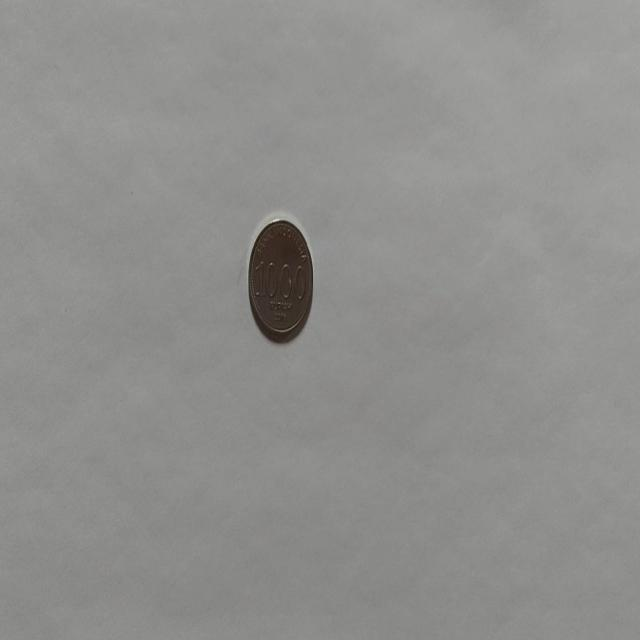seribu rupiah koin: (246, 214, 314, 343)
